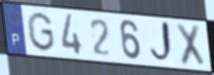2: (90, 18, 112, 57)
4: (60, 13, 85, 57)
6: (119, 19, 142, 61)
G: (26, 11, 57, 53)
J: (148, 19, 176, 66)
X: (174, 21, 207, 69)
